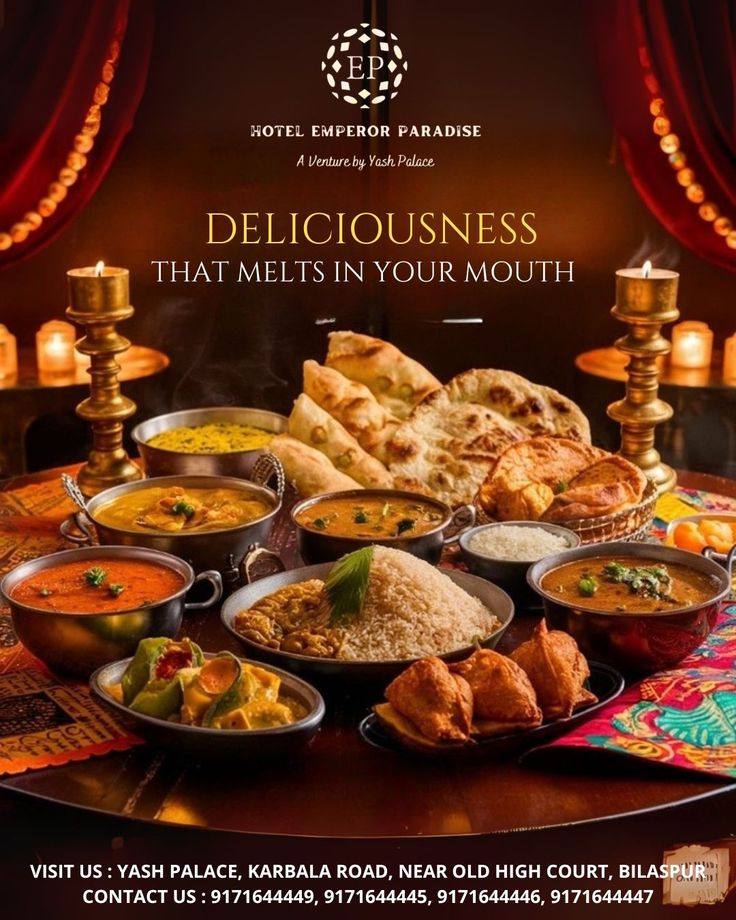Headline: (128, 183, 595, 308)
Product: (25, 332, 706, 743)
logo: (220, 27, 525, 185)
